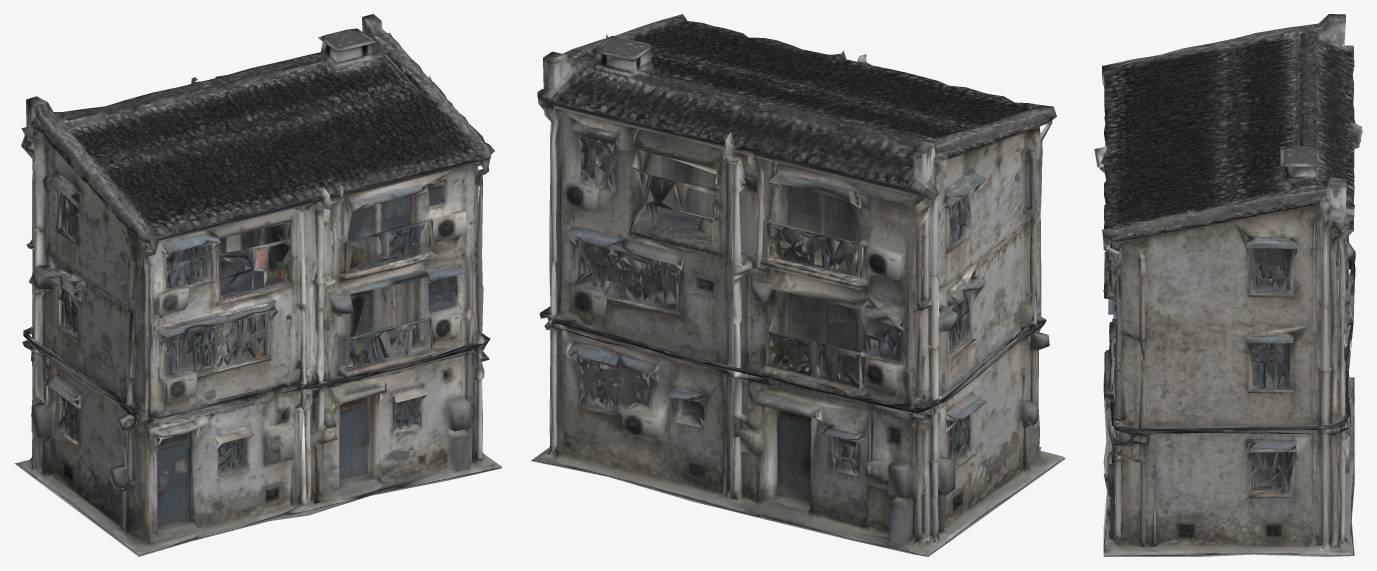
Rendered from old_apartment_13.glb.
The picture shows the model from 3 angles, left to right: view 1: azimuth 30°, elevation 25°; view 2: azimuth 150°, elevation 25°; view 3: azimuth 270°, elevation 25°; orthographic projection. The views are drawn at different scales.
Visible parts, largest first — view 1: tripo_node_3d8fa16e-3f83-4914-b281-2382f477c72a; view 2: tripo_node_3d8fa16e-3f83-4914-b281-2382f477c72a; view 3: tripo_node_3d8fa16e-3f83-4914-b281-2382f477c72a.
Part boxes in pixels (left/top/right/bottom): tripo_node_3d8fa16e-3f83-4914-b281-2382f477c72a: left=14, top=14, right=501, bottom=556; tripo_node_3d8fa16e-3f83-4914-b281-2382f477c72a: left=531, top=14, right=1065, bottom=556; tripo_node_3d8fa16e-3f83-4914-b281-2382f477c72a: left=1094, top=14, right=1362, bottom=556.
Bounding box in the file's own units: 0.9795 × 0.9672 × 0.6183.
Materials: 1 (1 with a texture image).
